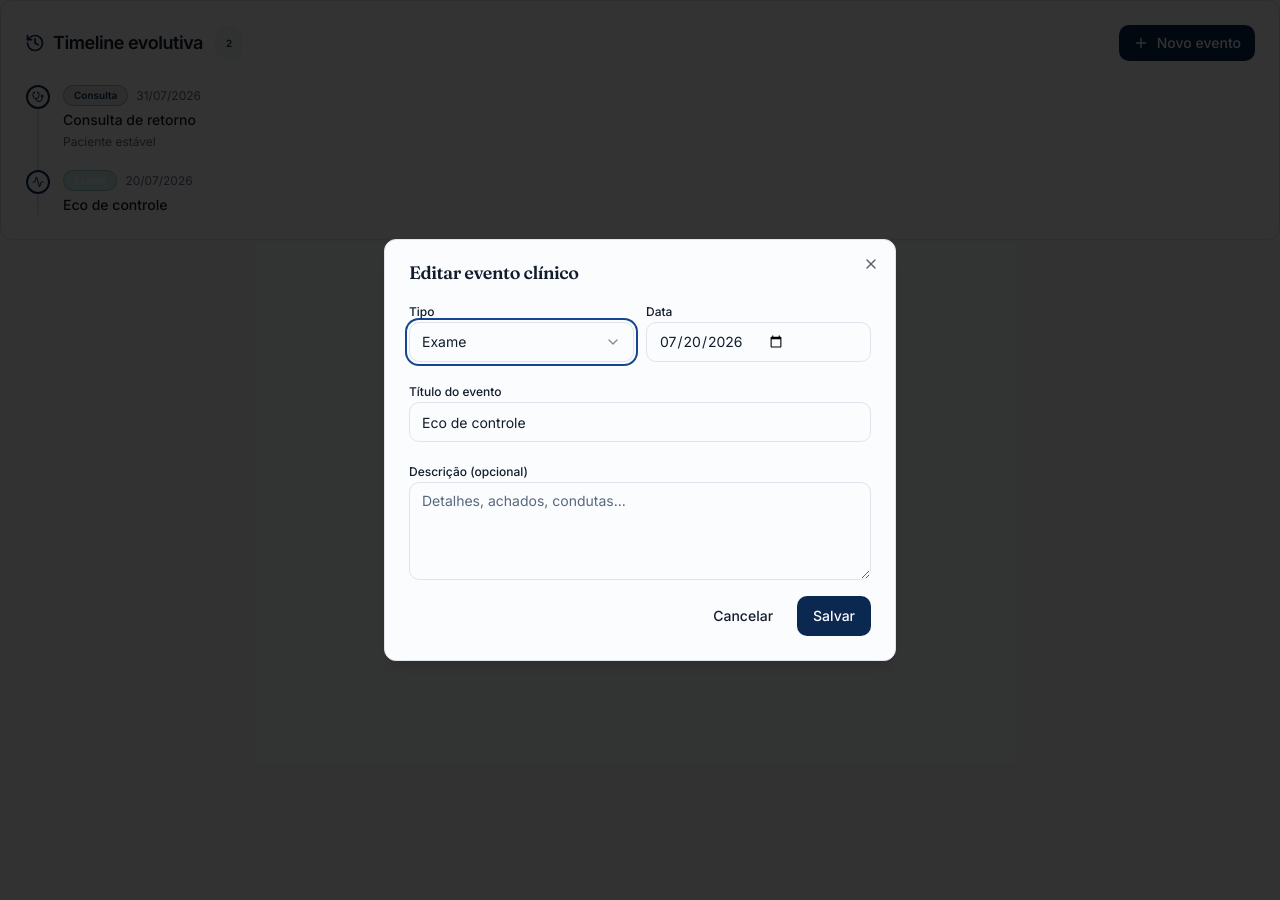
Test: CaseTimeline › fechar a edição não deixa o evento carregado no formulário de criação
The image size is (1280, 900).
Earlier steps of the test are not shown.
Expected: the field showing "Eco de controle" is shown, [409,402,871,442]
Click the button "Cancelar": click(743, 616) [697,596,789,636]
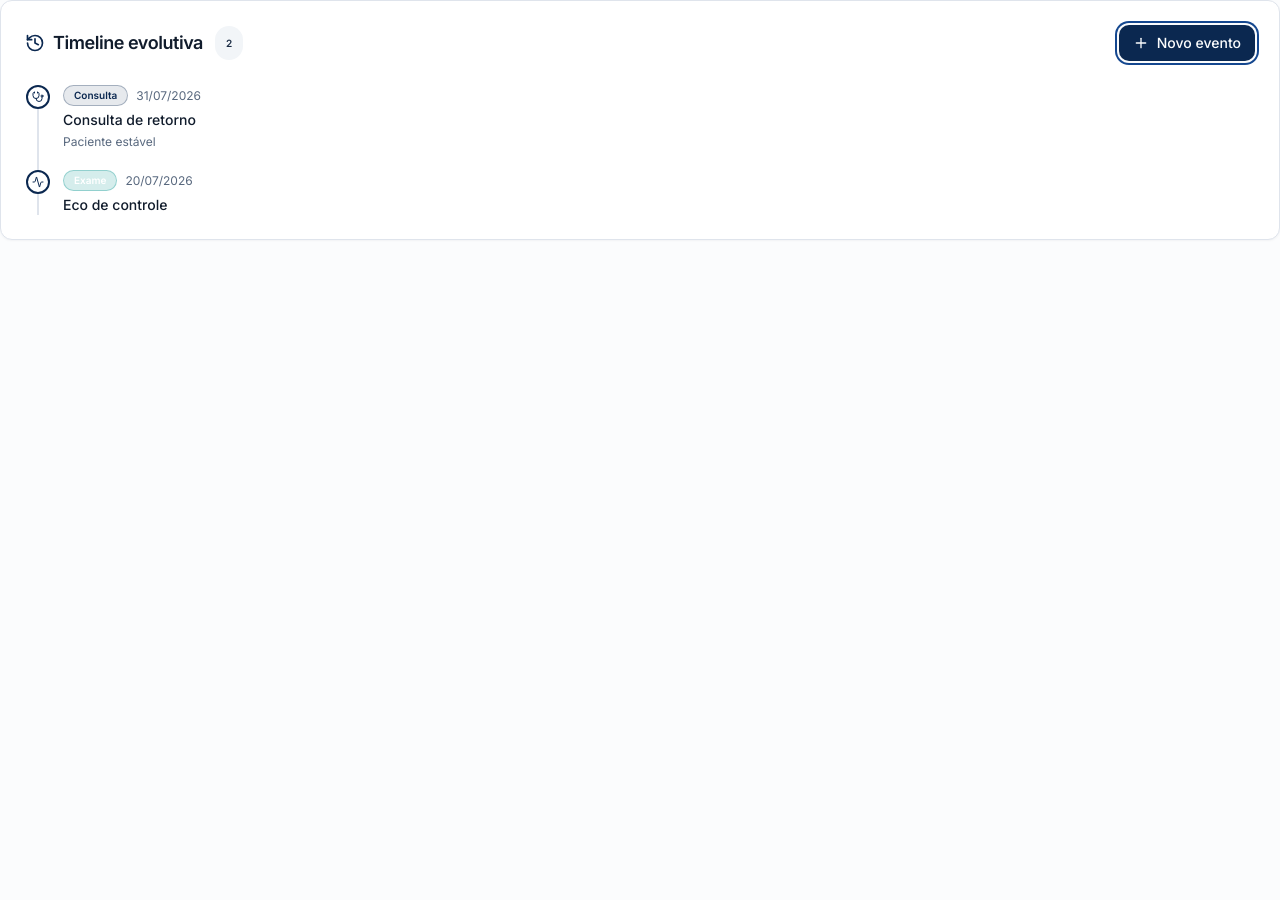
Now the heading "Editar evento clínico" is gone
Click the button "Novo evento": click(1187, 43) [1119,25,1255,61]
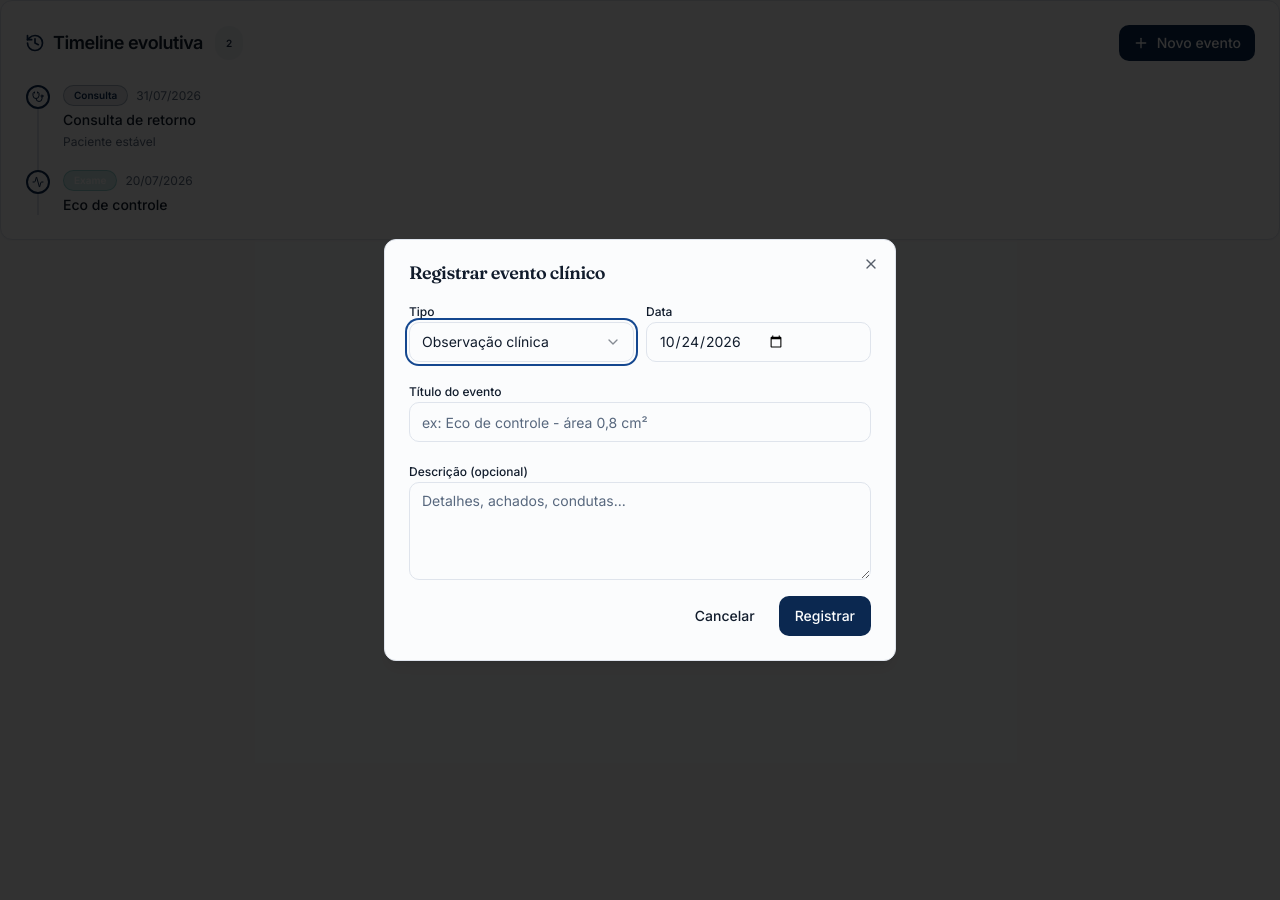
Now the heading "Registrar evento clínico" is shown, box [409,261,605,284]
